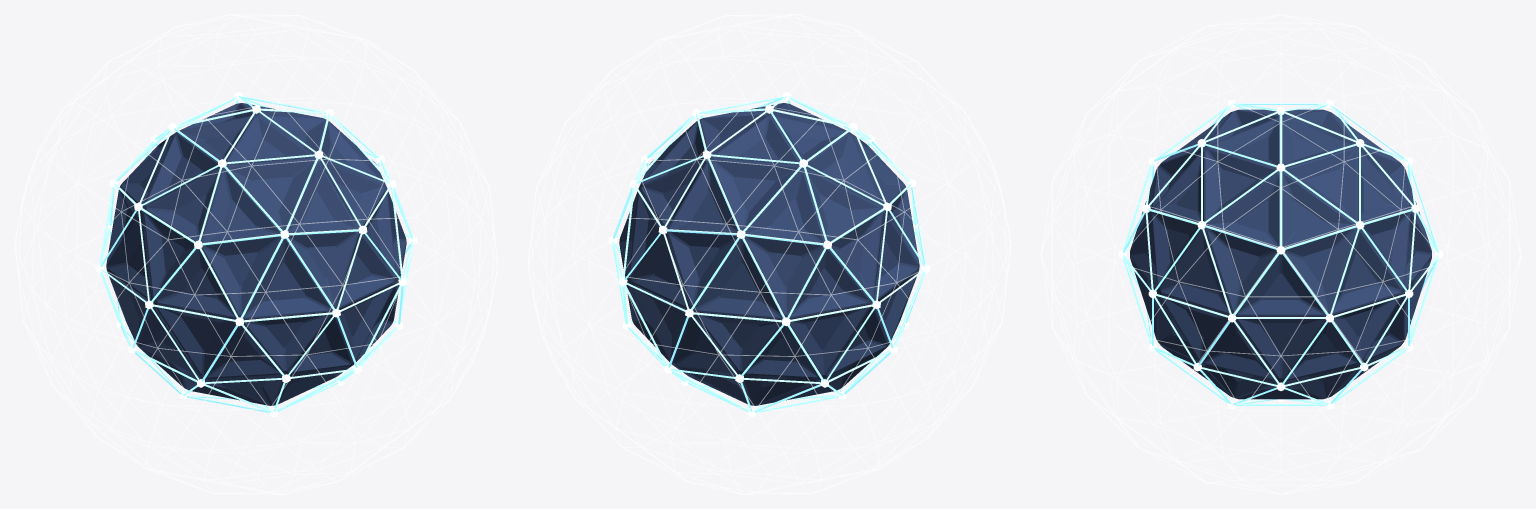
Rendered from core.glb.
The picture shows the model from 3 angles, left to right: view 1: azimuth 30°, elevation 25°; view 2: azimuth 150°, elevation 25°; view 3: azimuth 270°, elevation 25°; orthographic projection.
Visible parts, largest first — view 1: Plates, Shell, Frame, Nodes; view 2: Plates, Shell, Frame, Nodes; view 3: Plates, Shell, Frame, Nodes.
Boxes of the visible parts, x1,y1,x2,y2 form: Plates: [106, 103, 406, 405]; Shell: [14, 14, 498, 494]; Frame: [99, 96, 413, 412]; Nodes: [95, 92, 417, 416]; Plates: [619, 103, 919, 405]; Shell: [527, 14, 1011, 494]; Frame: [612, 96, 926, 412]; Nodes: [608, 92, 930, 416]; Plates: [1130, 109, 1431, 399]; Shell: [1040, 14, 1521, 494]; Frame: [1123, 103, 1438, 405]; Nodes: [1118, 99, 1443, 409].
Bounding box in the file's own units: 4.4 × 4.4 × 4.4.
